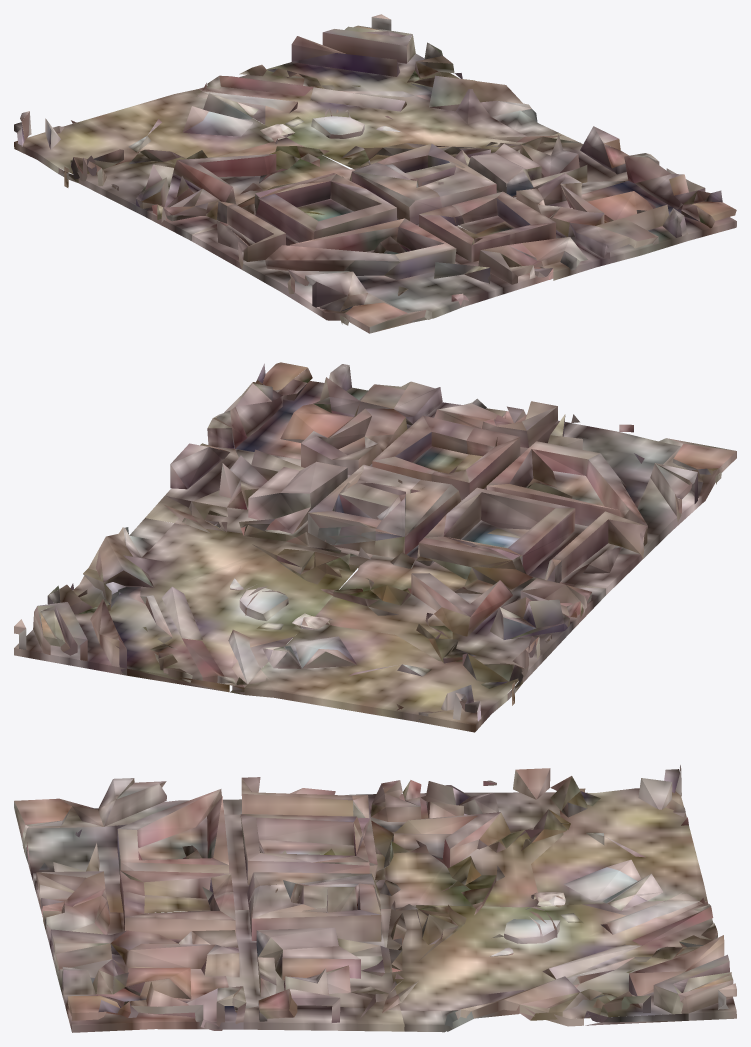
3 renders of one model, top to bottom at view 1: azimuth 30°, elevation 25°; view 2: azimuth 150°, elevation 25°; view 3: azimuth 270°, elevation 25°, orthographic. The views are drawn at different scales.
Parts seen in each view (by area): view 1: Mesh_0; view 2: Mesh_0; view 3: Mesh_0.
Part boxes in pixels (left/top/right/bottom): Mesh_0: left=14, top=14, right=736, bottom=333; Mesh_0: left=14, top=362, right=736, bottom=732; Mesh_0: left=14, top=765, right=736, bottom=1032.
Size of the model in its own units: 533 by 96.77 by 659.
Materials: 2 (2 with a texture image).
